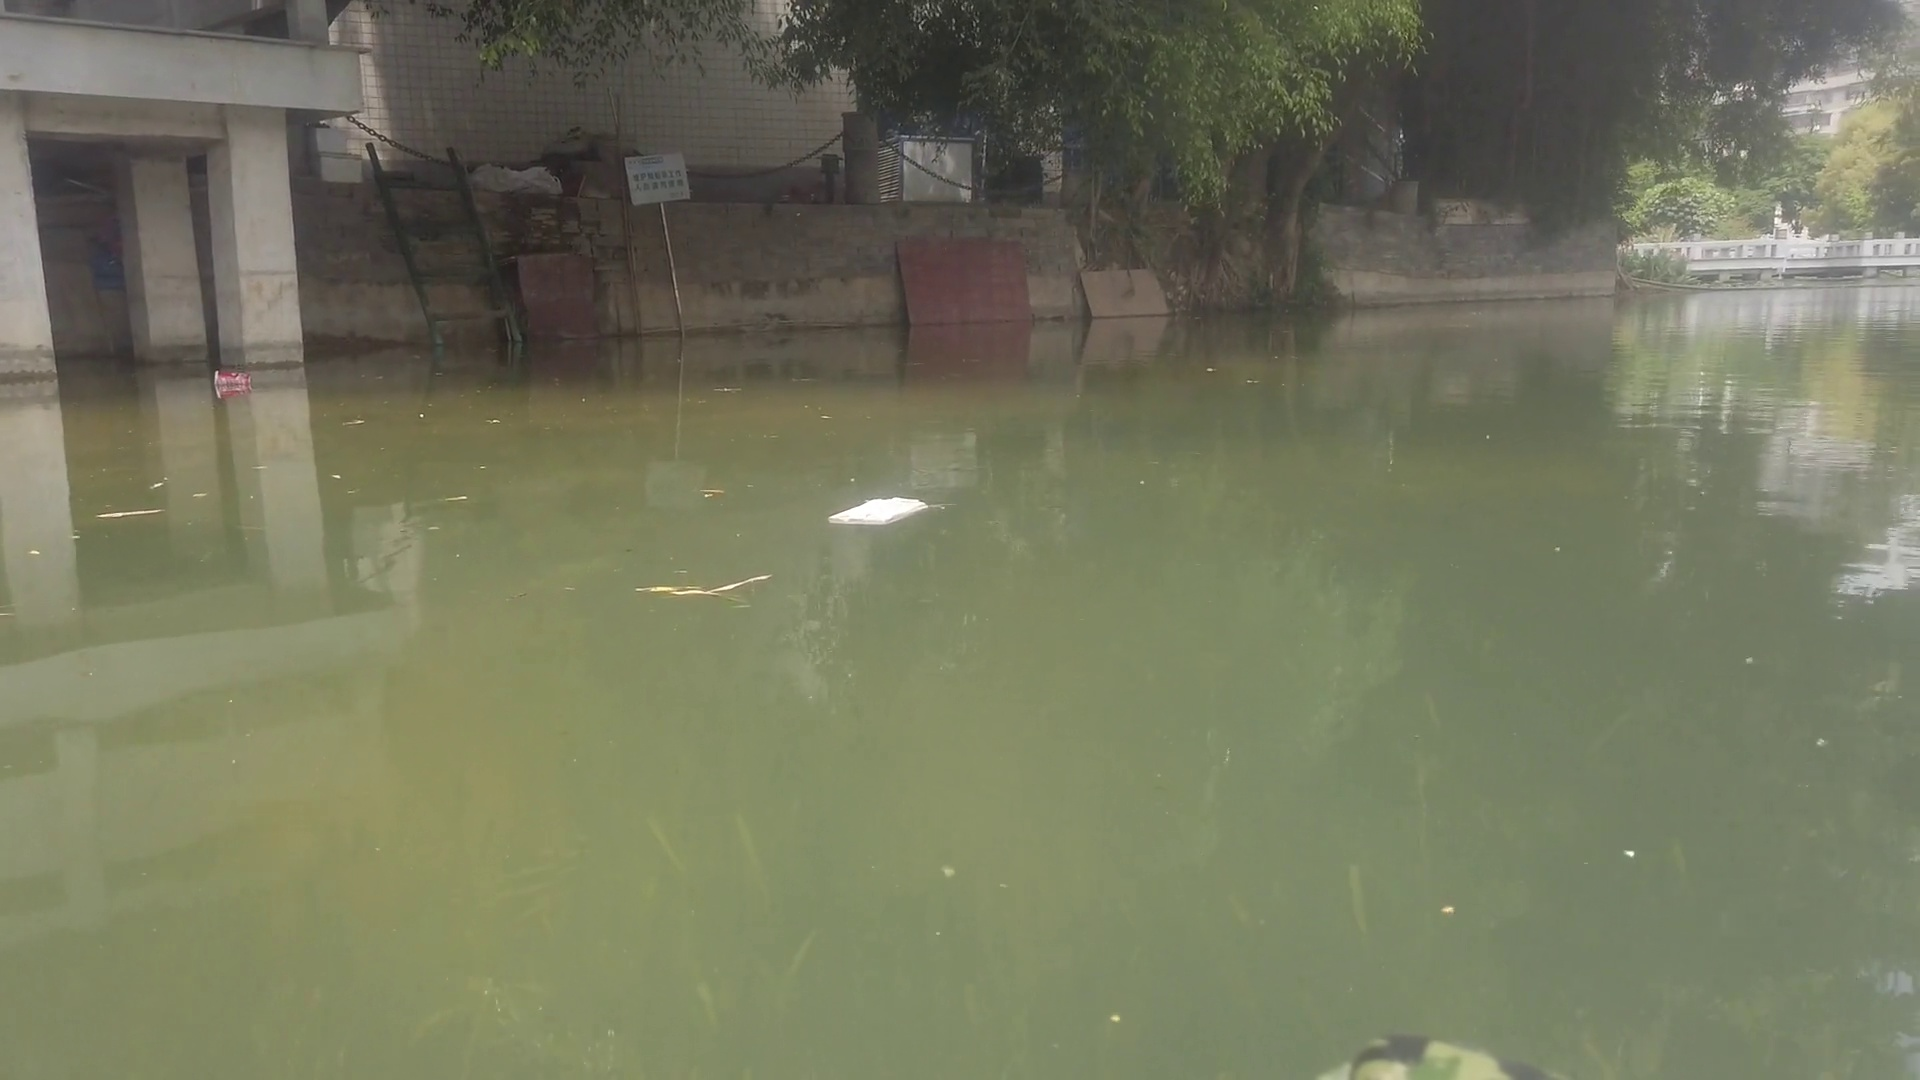bottle: (212, 365, 260, 392)
paper: (828, 477, 938, 533)
